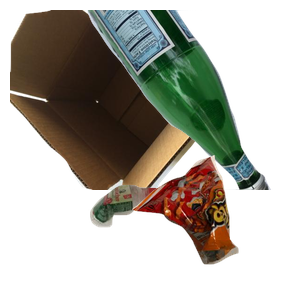cardboard: (10, 10, 218, 190)
glass: (75, 10, 300, 190)
plastic: (88, 182, 242, 300)
trash: (130, 153, 300, 300)
